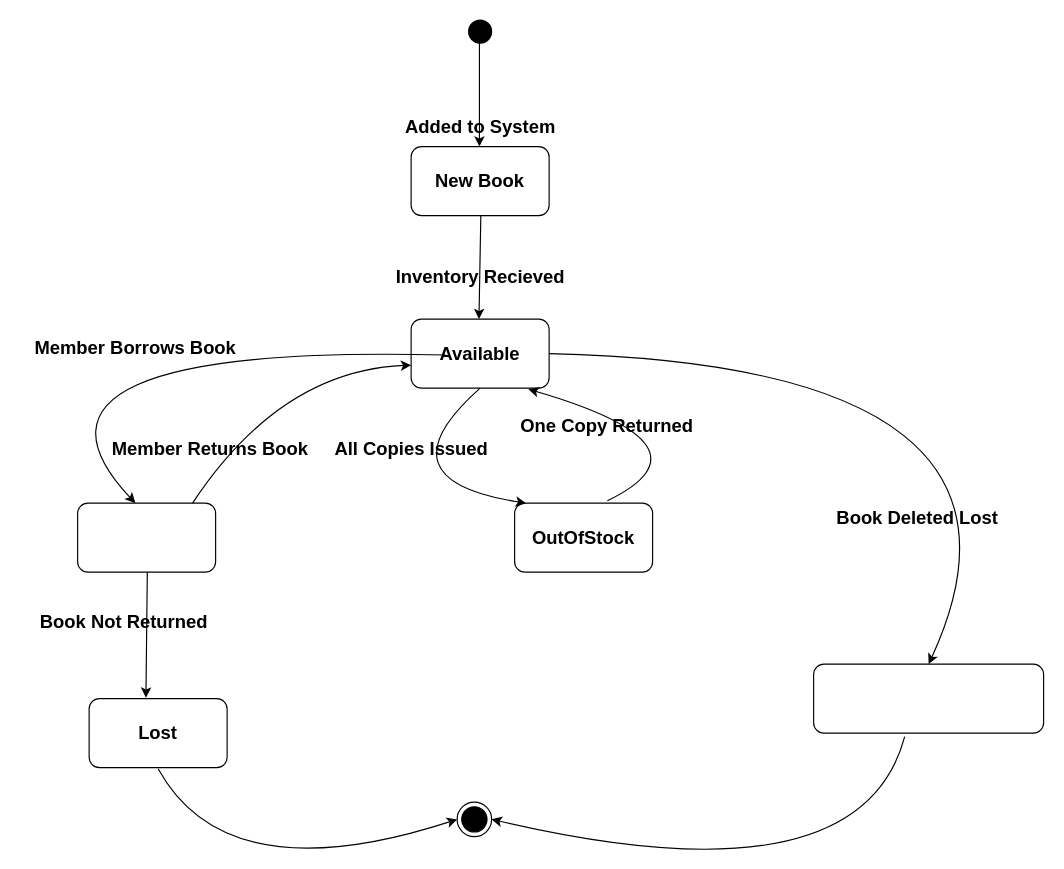
The diagram is 1064 pixels wide and 869 high, and some of its shapes have lost their labels. The centre of each missing label's shape, as x and y in pixels:
Decommissioned: the point at 928,698
Issued: the point at 146,537
